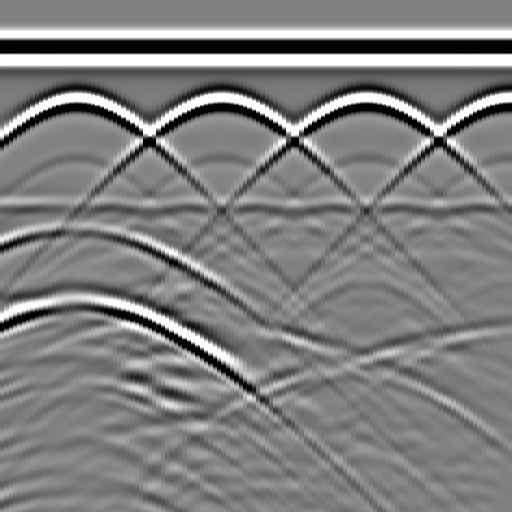grout_surface: (1, 192, 512, 222)
rebar: (55, 81, 95, 121), (199, 81, 239, 121), (344, 81, 384, 121), (488, 81, 512, 121)
rock_surface: (1, 302, 511, 373)
water_void: (43, 204, 103, 244)
